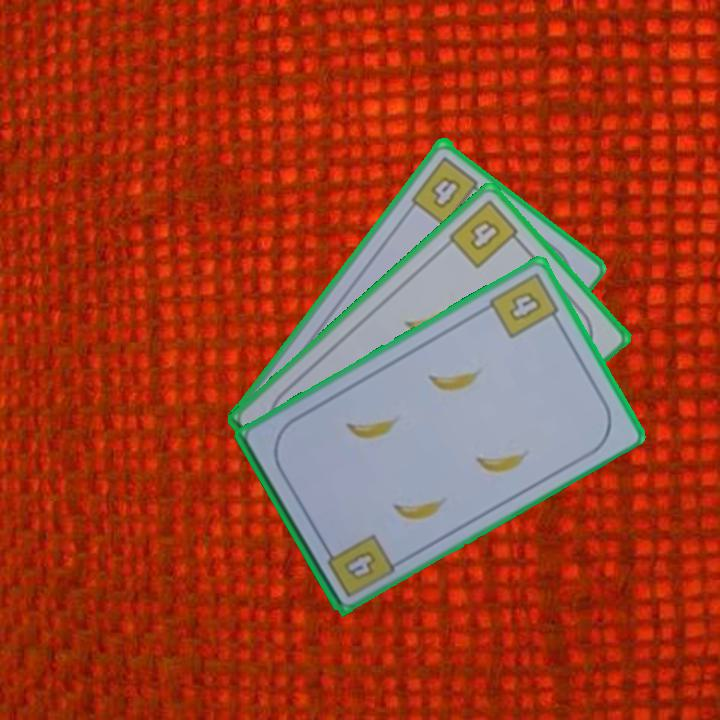4b: (407, 151, 488, 228), (445, 196, 527, 271), (485, 269, 564, 341), (320, 530, 398, 600)
